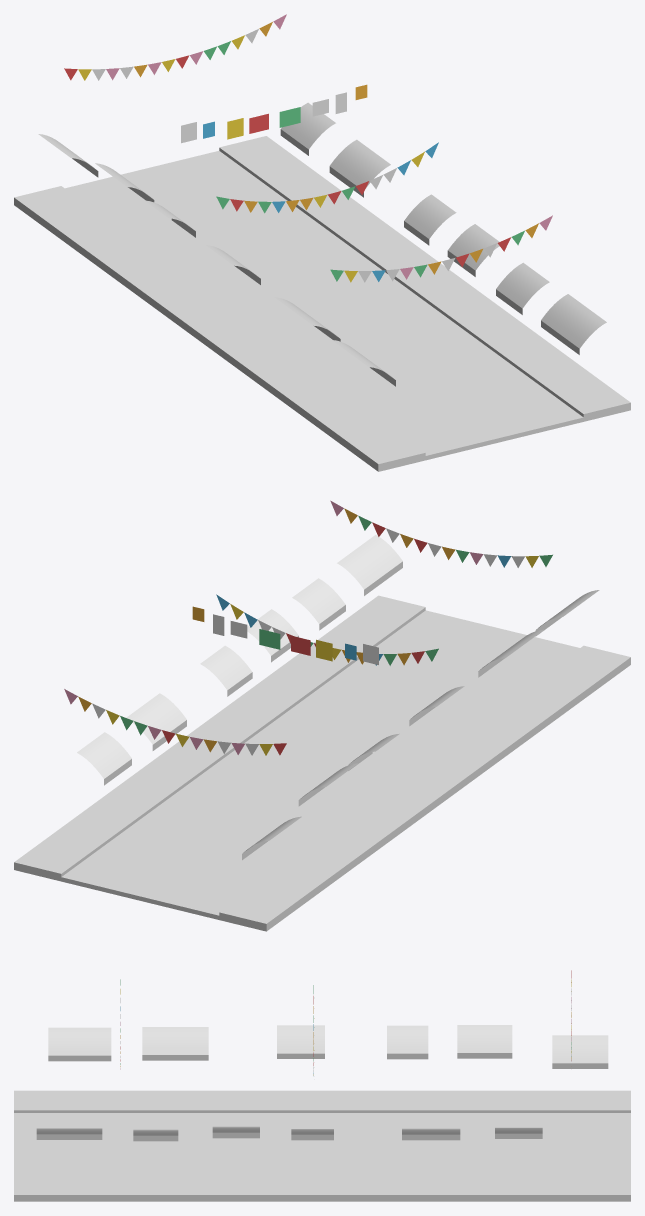
The model's file is Harita_01_Mahalle_Carsi_Girisi_Ozel.fbx.
The picture shows the model from 3 angles, top to bottom: view 1: azimuth 30°, elevation 25°; view 2: azimuth 150°, elevation 25°; view 3: azimuth 270°, elevation 25°; orthographic projection. The views are drawn at different scales.
Visible parts, largest first — view 1: Harita_01_Yol.001, Harita_01_Kaldirim_L.001, Harita_01_Kaldirim_R.001, Camasirlar.010, Tente.155, Tente.159, Bayraklar.039, Bayraklar.040, Bayraklar.038, Tente.156, Tente.158, Tente.160 (+1 smaller); view 2: Harita_01_Yol.001, Harita_01_Kaldirim_L.001, Harita_01_Kaldirim_R.001, Camasirlar.010, Tente.155, Tente.159, Bayraklar.040, Bayraklar.038, Tente.160, Tente.156, Tente.158, Bayraklar.039 (+1 smaller); view 3: Harita_01_Yol.001, Harita_01_Kaldirim_R.001, Harita_01_Kaldirim_L.001, Tente.150, Tente.149, Tente.154, Tente.153, Tente.151, Tente.152, Tente.155, Tente.159, Tente.157 (+3 smaller).
Boxes of the visible parts, left/top/right/bottom form: Harita_01_Yol.001: left=65, top=151, right=583, bottom=460; Harita_01_Kaldirim_L.001: left=14, top=186, right=425, bottom=471; Harita_01_Kaldirim_R.001: left=219, top=136, right=630, bottom=421; Camasirlar.010: left=181, top=84, right=367, bottom=143; Tente.155: left=541, top=294, right=606, bottom=354; Tente.159: left=329, top=139, right=390, bottom=197; Bayraklar.039: left=216, top=142, right=438, bottom=213; Bayraklar.040: left=64, top=14, right=286, bottom=80; Bayraklar.038: left=330, top=215, right=552, bottom=282; Tente.156: left=496, top=262, right=549, bottom=314; Tente.158: left=404, top=194, right=456, bottom=245; Tente.160: left=280, top=102, right=335, bottom=155; Harita_01_Yol.001: left=61, top=610, right=579, bottom=919; Harita_01_Kaldirim_L.001: left=219, top=645, right=630, bottom=931; Harita_01_Kaldirim_R.001: left=14, top=595, right=425, bottom=881; Camasirlar.010: left=192, top=606, right=378, bottom=664; Tente.155: left=337, top=535, right=402, bottom=595; Tente.159: left=126, top=693, right=186, bottom=750; Bayraklar.040: left=64, top=689, right=286, bottom=755; Bayraklar.038: left=330, top=500, right=552, bottom=567; Tente.160: left=77, top=732, right=131, bottom=785; Tente.156: left=292, top=578, right=345, bottom=630; Tente.158: left=200, top=645, right=252, bottom=696; Bayraklar.039: left=216, top=594, right=438, bottom=665; Harita_01_Yol.001: left=14, top=1113, right=630, bottom=1175; Harita_01_Kaldirim_R.001: left=14, top=1175, right=630, bottom=1201; Harita_01_Kaldirim_L.001: left=14, top=1090, right=630, bottom=1112; Tente.150: left=142, top=1027, right=208, bottom=1060; Tente.149: left=48, top=1027, right=111, bottom=1061; Tente.154: left=552, top=1035, right=608, bottom=1068; Tente.153: left=457, top=1025, right=512, bottom=1058; Tente.151: left=277, top=1025, right=324, bottom=1058; Tente.152: left=387, top=1025, right=428, bottom=1059; Tente.155: left=36, top=1128, right=102, bottom=1139; Tente.159: left=402, top=1128, right=460, bottom=1140; Tente.157: left=212, top=1126, right=259, bottom=1138.
Bounding box in the file's own units: 12 × 7.95 × 30.
